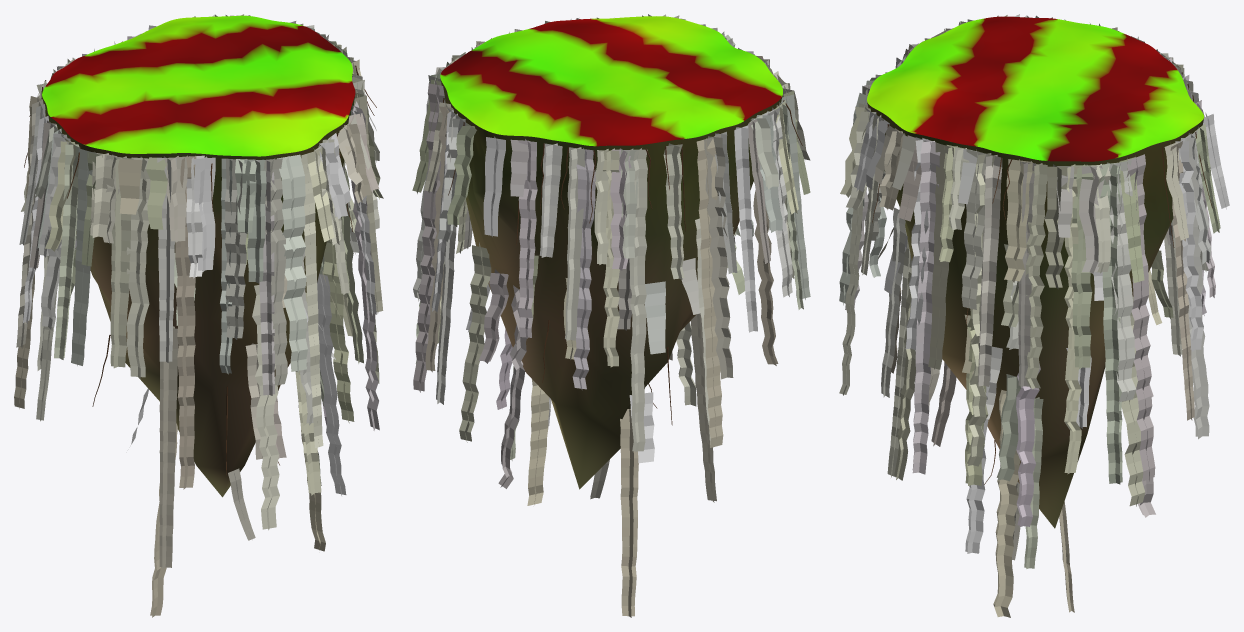
Rendered from SM_H08_Floater02.fbx.
3 views of the same model, side by side, from view 1: azimuth 30°, elevation 25°; view 2: azimuth 150°, elevation 25°; view 3: azimuth 270°, elevation 25° (orthographic). The views are drawn at different scales.
Visible parts, largest first — view 1: SM_H08_Floater02_Ivy, SM_H08_Floater02; view 2: SM_H08_Floater02_Ivy, SM_H08_Floater02; view 3: SM_H08_Floater02_Ivy, SM_H08_Floater02.
Boxes of the visible parts, x1=… form: SM_H08_Floater02_Ivy: x1=14, y1=14, x2=383, y2=617; SM_H08_Floater02: x1=42, y1=15, x2=355, y2=497; SM_H08_Floater02_Ivy: x1=412, y1=14, x2=810, y2=617; SM_H08_Floater02: x1=440, y1=16, x2=782, y2=489; SM_H08_Floater02_Ivy: x1=839, y1=14, x2=1229, y2=617; SM_H08_Floater02: x1=867, y1=16, x2=1203, y2=528.
Bounding box in the file's own units: 33.34 × 50.15 × 32.59.
